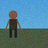person: (5, 10, 21, 38)
